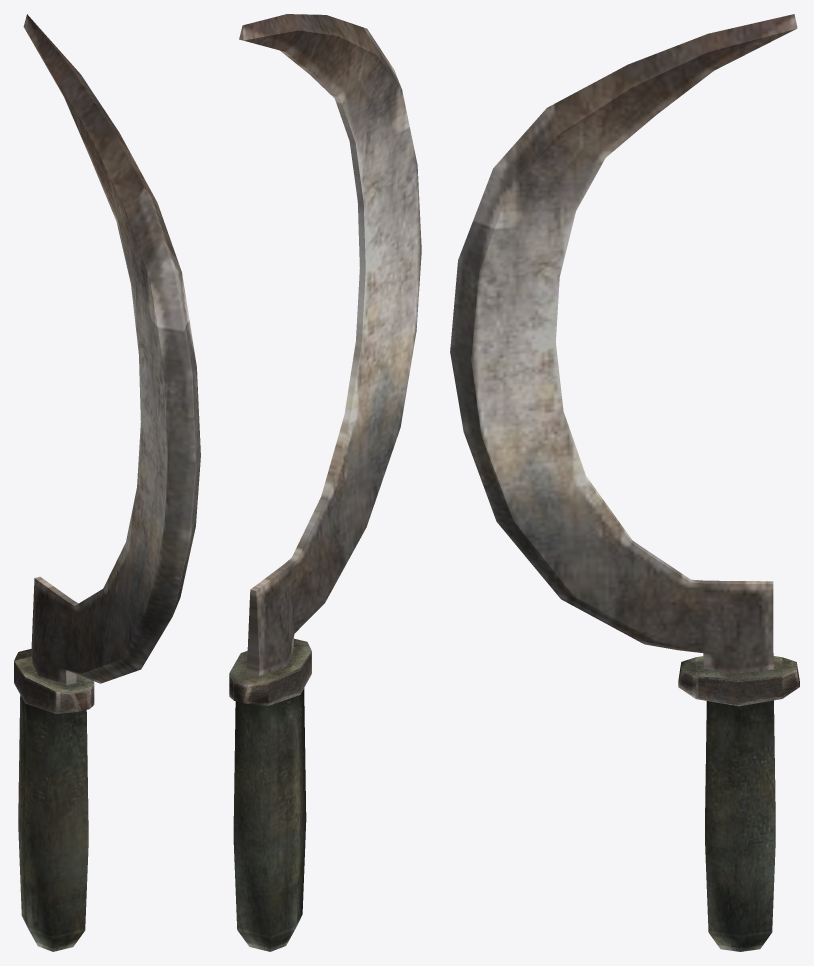
File: weapons_sickle.glb
3 views of the same model, side by side, from view 1: azimuth 30°, elevation 25°; view 2: azimuth 150°, elevation 25°; view 3: azimuth 270°, elevation 25° (orthographic). The views are drawn at different scales.
Visible parts, largest first — view 1: sickle; view 2: sickle; view 3: sickle.
Part boxes in pixels (left/top/right/bottom): sickle: left=14, top=14, right=200, bottom=951; sickle: left=229, top=14, right=421, bottom=951; sickle: left=450, top=14, right=799, bottom=951.
Bounding box in the file's own units: 0.0305 × 0.4575 × 0.1559.
1 material, 1 textured.
